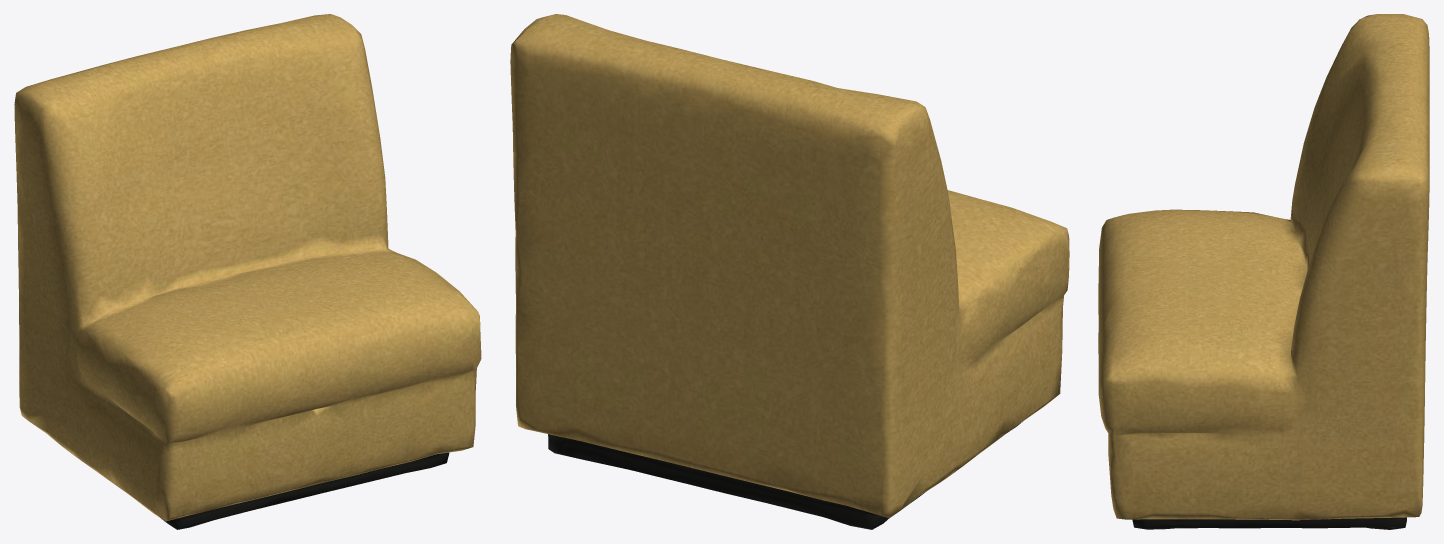
File: vip_sofa.glb
3 renders of one model, left to right at view 1: azimuth 30°, elevation 25°; view 2: azimuth 150°, elevation 25°; view 3: azimuth 270°, elevation 25°, orthographic. The views are drawn at different scales.
Bounding box in the file's own units: 0.9627 × 1.01 × 0.8086.
Materials: 1 (1 with a texture image).
